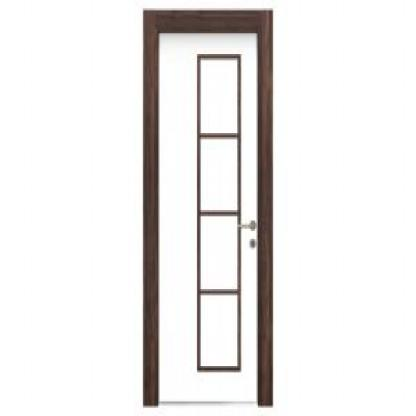door: (158, 32, 257, 402)
